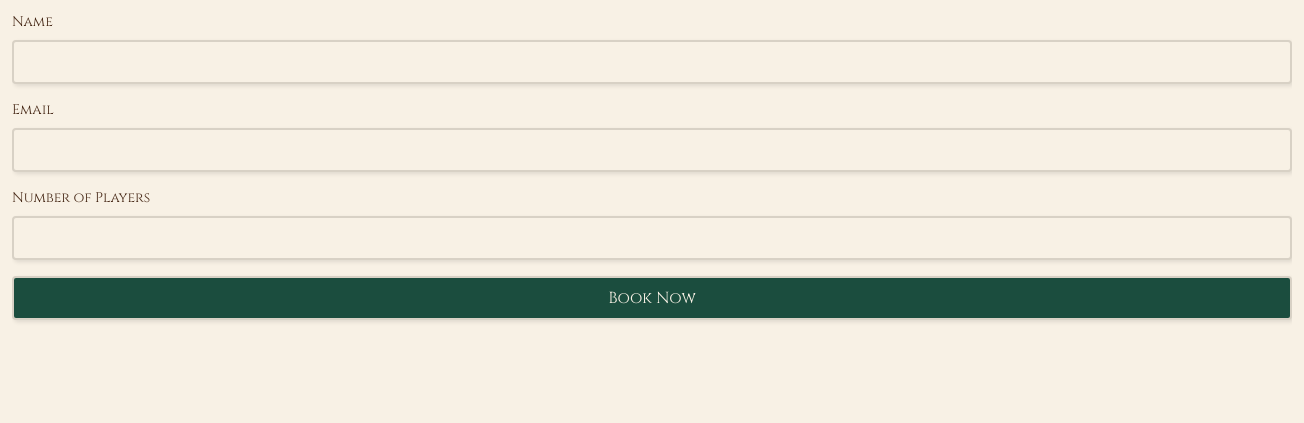
Scenario: BookingForm › shows validation error for invalid email
Type "invalid-email" into the field labelled "Email" at (652, 150), box [12,128,1292,172]
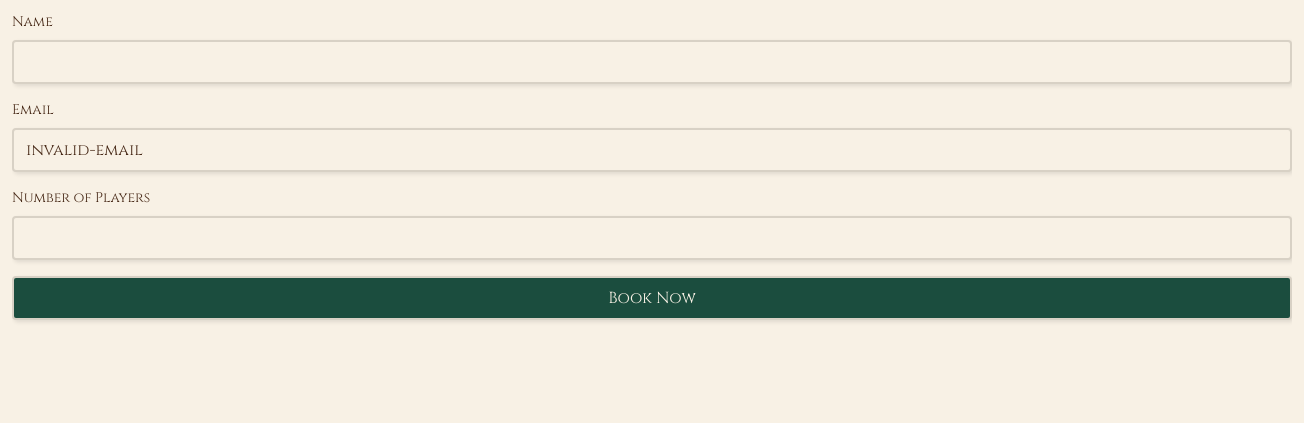
Click the button "Book Now" at (652, 298), box [12,276,1292,320]
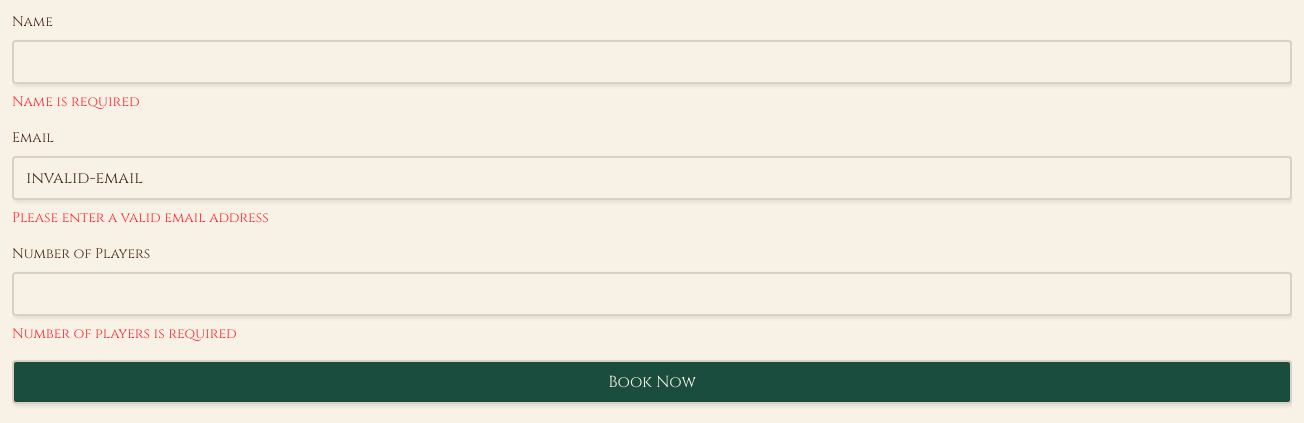
Check: the text "Please enter a valid email address" is shown, box [12,208,269,227]
